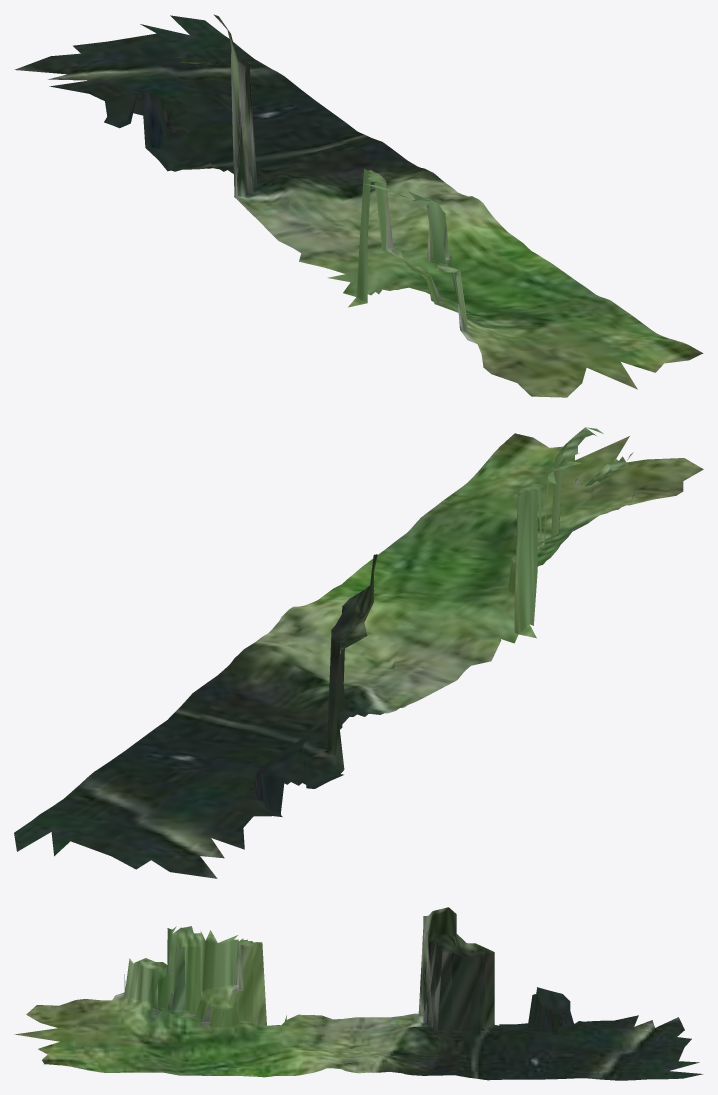
The model's file is Tile_003_000_L14_434.glb.
The picture shows the model from 3 angles, top to bottom: view 1: azimuth 30°, elevation 25°; view 2: azimuth 150°, elevation 25°; view 3: azimuth 270°, elevation 25°; orthographic projection. The views are drawn at different scales.
Parts seen in each view (by area): view 1: rtc; view 2: rtc; view 3: rtc.
Part boxes in pixels (x1,y1,x2,y2): rtc: (14,14,703,397); rtc: (14,427,703,878); rtc: (14,907,703,1080).
Bounding box in the file's own units: 15.88 × 13.97 × 72.79.
Materials: 1 (1 with a texture image).
